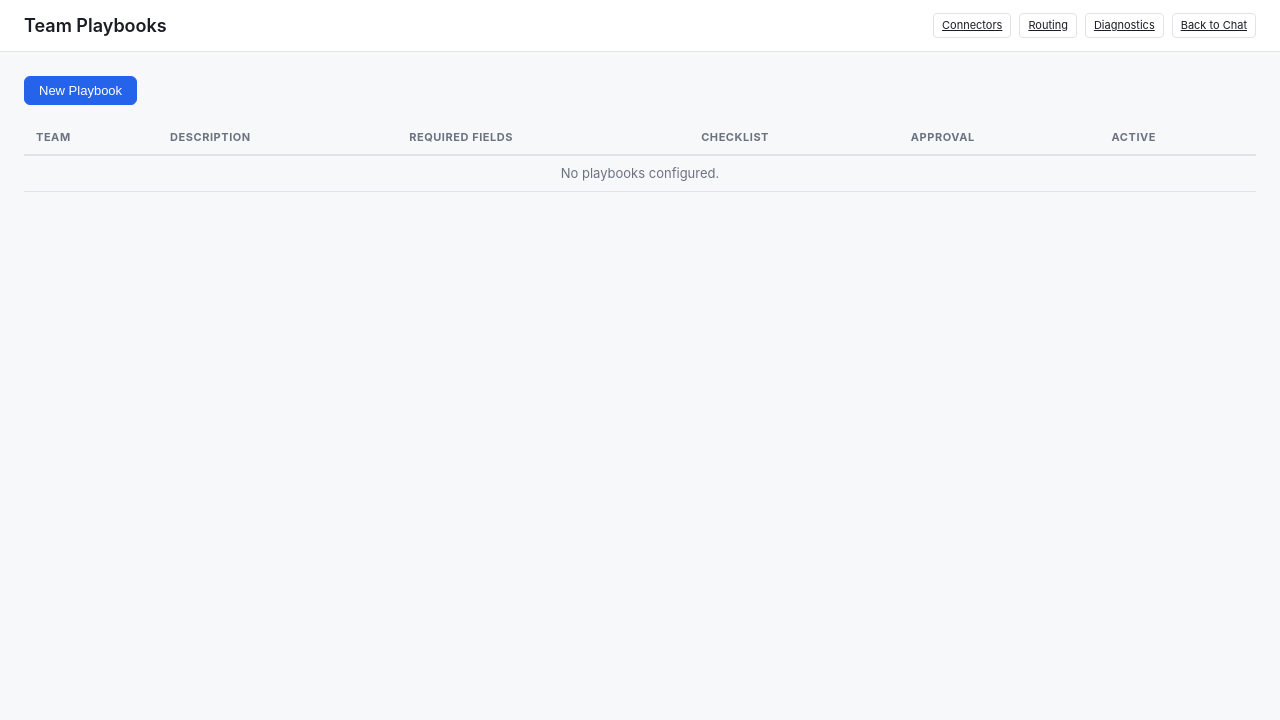
Test: PlaybooksPage › shows create form
The width and height of the screenshot is (1280, 720).
Click the button with test id "new-playbook-btn" at point(81, 90), box x1=24 y1=76 x2=137 y2=105
(page scrolled)
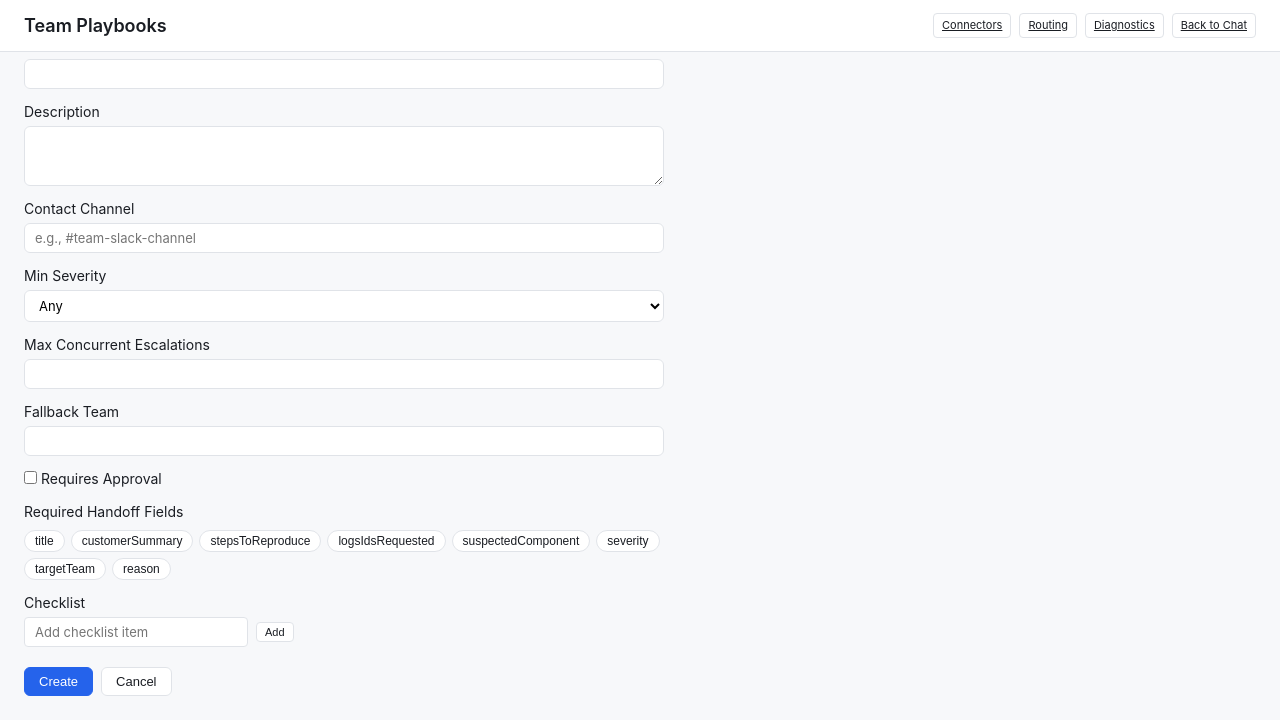
expect the element with test id "create-playbook-form" is shown: met, box x1=24 y1=52 x2=664 y2=696
expect the dropdown named "Minimum severity" is shown: met, box x1=24 y1=290 x2=664 y2=322
expect the field named "Team name" is shown: met, box x1=24 y1=58 x2=664 y2=88
